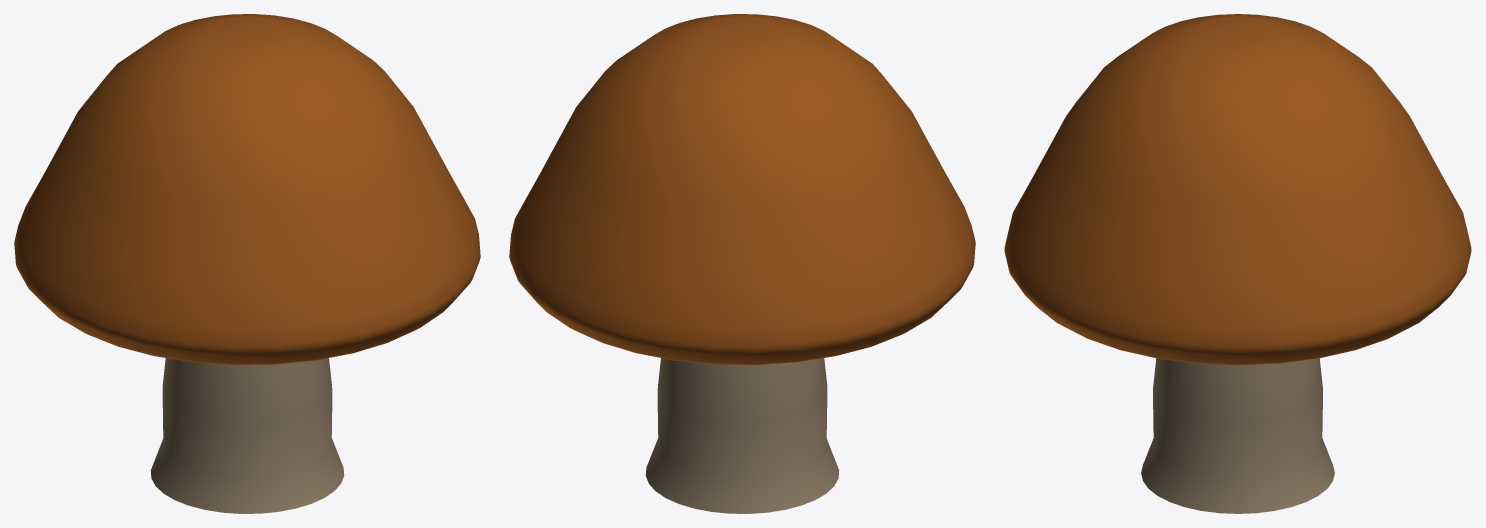
File: _ushroom.fbx
The picture shows the model from 3 angles, left to right: view 1: azimuth 30°, elevation 25°; view 2: azimuth 150°, elevation 25°; view 3: azimuth 270°, elevation 25°; orthographic projection.
Parts seen in each view (by area): view 1: Sphere; view 2: Sphere; view 3: Sphere.
Part boxes in pixels (x1,y1,x2,y2): Sphere: (14,14,480,513); Sphere: (509,14,975,513); Sphere: (1004,14,1471,513).
Size of the model in its own units: 166 by 175 by 166.
